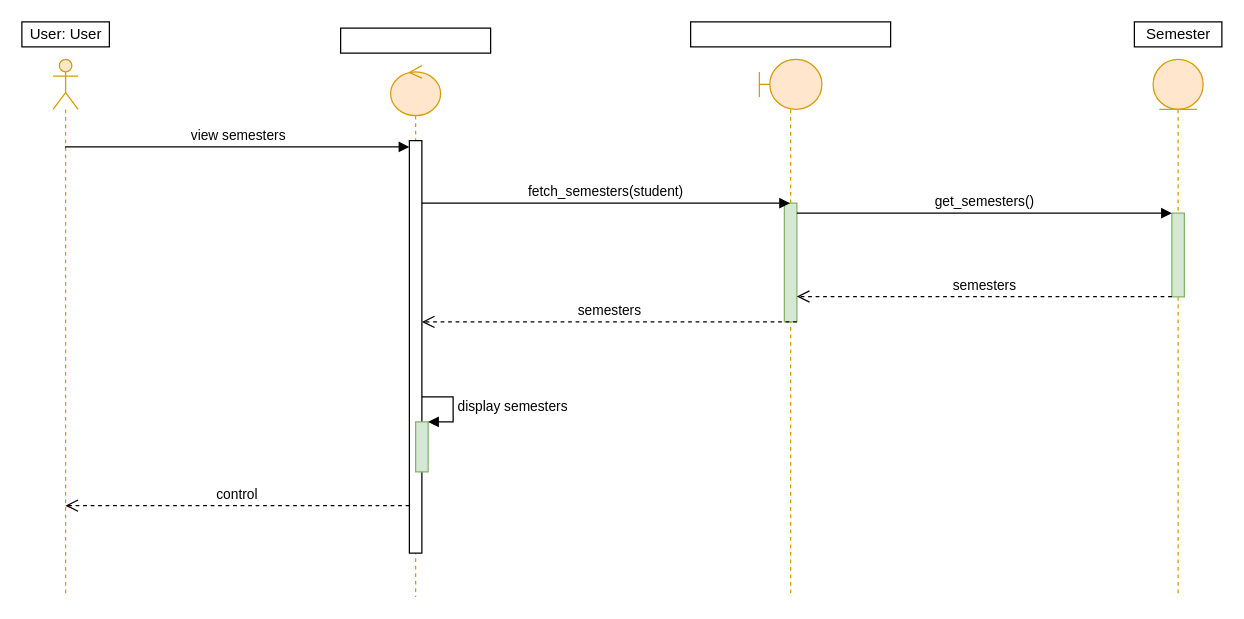
This 1244x619 diagram has some shape labels left out. The shapes that lost their labels are listed below. From the top down, each one's centre as x and y in pixels, then its label:
the point at 415,40: Progress Tracker UI
the point at 790,34: Progress Tracker Backend
